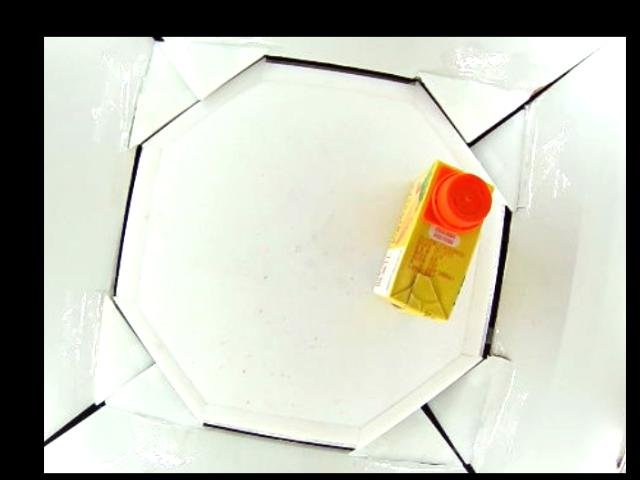Bottle: (373, 159, 496, 325)
